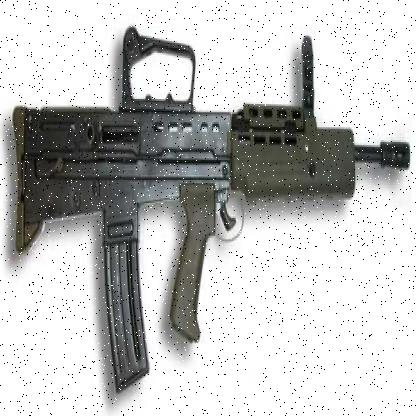rifle: (4, 15, 413, 365)
